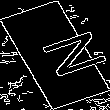N_SW: (14, 26, 96, 84)
